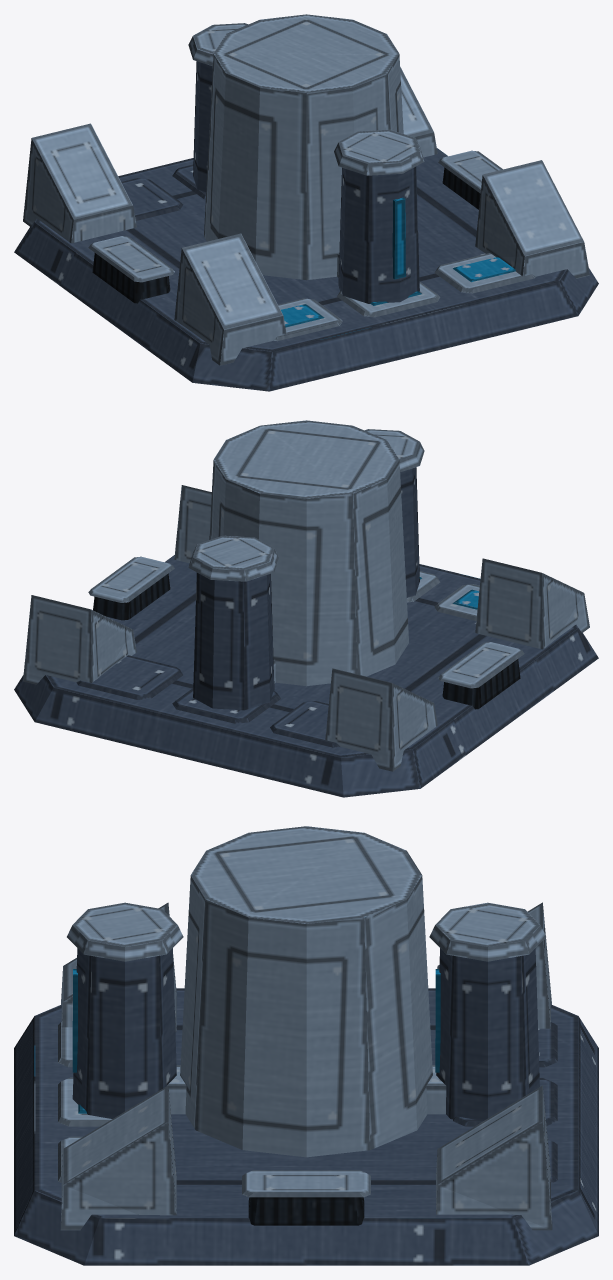
Rendered from building-isotope.fbx.
3 renders of one model, top to bottom at view 1: azimuth 30°, elevation 25°; view 2: azimuth 150°, elevation 25°; view 3: azimuth 270°, elevation 25°, orthographic. The views are drawn at different scales.
Parts seen in each view (by area): view 1: building-isotope; view 2: building-isotope; view 3: building-isotope.
Part boxes in pixels (bbox=[...]): building-isotope: bbox=[14, 14, 598, 391]; building-isotope: bbox=[14, 420, 598, 797]; building-isotope: bbox=[14, 826, 598, 1265].
Bounding box in the file's own units: 2184 × 1100 × 2184.
Materials: 1 (1 with a texture image).
